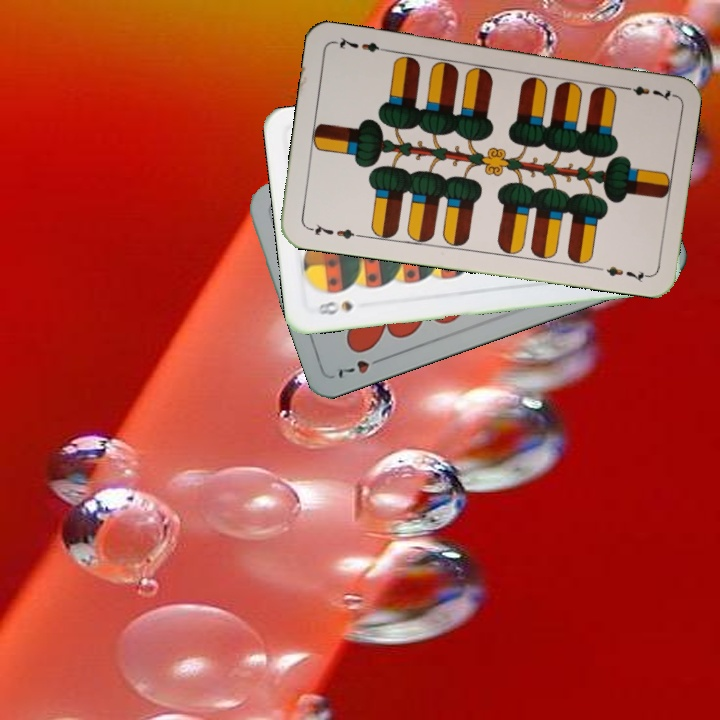E7: (304, 219, 363, 242), (616, 81, 675, 104)
H7: (331, 352, 389, 381)
S8: (312, 297, 356, 317)
